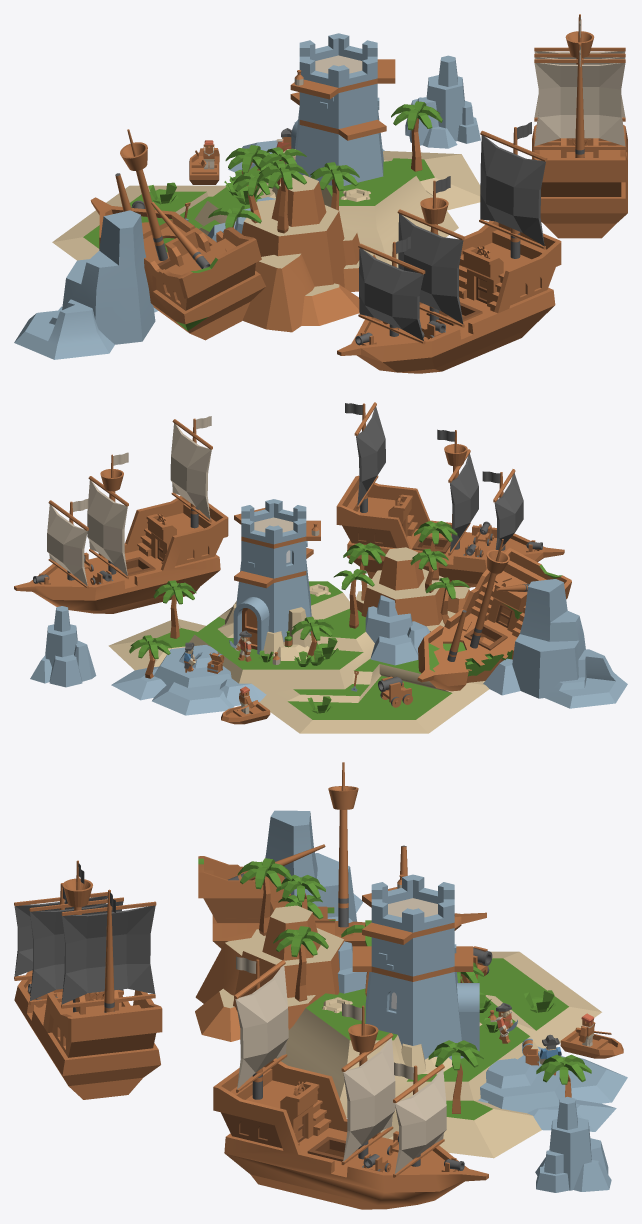
The model's file is Ships_Scene.fbx.
The picture shows the model from 3 angles, top to bottom: view 1: azimuth 30°, elevation 25°; view 2: azimuth 150°, elevation 25°; view 3: azimuth 270°, elevation 25°; orthographic projection. The views are drawn at different scales.
Parts seen in each view (by area): view 1: SM_shipDark1, SM_darkSails.001, SM_shipWreck1, SM_formationRock1, SM_formationSandGrass1, SM_Tower1, SM_formationStone_LG1, SM_shipLight1, SM_lightSails.001, SM_formationStone2, SM_palmDetail_LG2, SM_palmDetail_LG1 (+6 smaller); view 2: SM_formationSandGrass1, SM_shipLight1, SM_Tower1, SM_shipWreck1, SM_formationStone_LG1, SM_shipDark1, SM_lightSails.001, SM_formationStone1, SM_darkSails.001, SM_formationRock1, SM_formationStone2, SM_formationStone3 (+10 smaller); view 3: SM_shipLight1, SM_formationSandGrass1, SM_Tower1, SM_lightSails.001, SM_shipDark1, SM_darkSails.001, SM_formationRock1, SM_shipWreck1, SM_formationStone1, SM_formationStone2, SM_formationStone_LG1, SM_palmDetail_LG3 (+6 smaller).
Boxes of the visible parts, x1,y1,x2,y2 form: SM_shipDark1: (337, 122, 561, 373); SM_darkSails.001: (358, 130, 547, 344); SM_shipWreck1: (90, 129, 265, 340); SM_formationRock1: (241, 175, 376, 332); SM_formationSandGrass1: (52, 151, 480, 267); SM_Tower1: (256, 33, 395, 198); SM_formationStone_LG1: (14, 210, 158, 359); SM_shipLight1: (532, 14, 627, 238); SM_lightSails.001: (534, 47, 625, 149); SM_formationStone2: (405, 55, 480, 148); SM_palmDetail_LG2: (257, 160, 308, 233); SM_palmDetail_LG1: (391, 101, 442, 171); SM_formationSandGrass1: (108, 581, 489, 733); SM_shipLight1: (14, 416, 228, 613); SM_Tower1: (218, 499, 320, 660); SM_shipWreck1: (417, 539, 571, 691); SM_formationStone_LG1: (483, 579, 627, 708); SM_shipDark1: (336, 403, 564, 587); SM_lightSails.001: (47, 419, 212, 588); SM_formationStone1: (111, 645, 266, 715); SM_darkSails.001: (354, 402, 523, 555); SM_formationRock1: (356, 547, 483, 641); SM_formationStone2: (30, 606, 96, 687); SM_formationStone3: (365, 595, 430, 665); SM_shipLight1: (213, 956, 488, 1209); SM_formationSandGrass1: (276, 951, 601, 1158); SM_Tower1: (352, 874, 482, 1074); SM_lightSails.001: (234, 960, 446, 1177); SM_shipDark1: (14, 860, 162, 1099); SM_darkSails.001: (14, 892, 156, 1008); SM_formationRock1: (195, 905, 344, 1041); SM_shipWreck1: (198, 762, 486, 948); SM_formationStone1: (478, 1046, 627, 1131); SM_formationStone2: (535, 1096, 611, 1192); SM_formationStone_LG1: (265, 810, 362, 922); SM_palmDetail_LG3: (273, 926, 328, 1001).
Size of what is drawn, in the model's own units: 6651 by 1964 by 5136.
